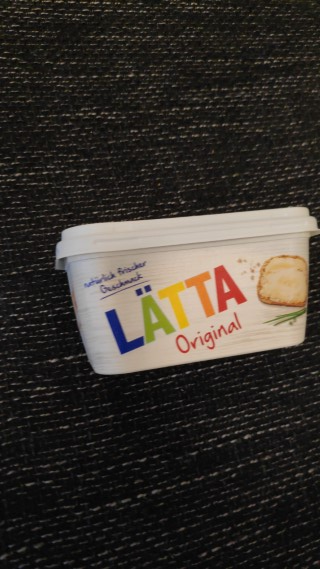laetta: (54, 206, 320, 375)
